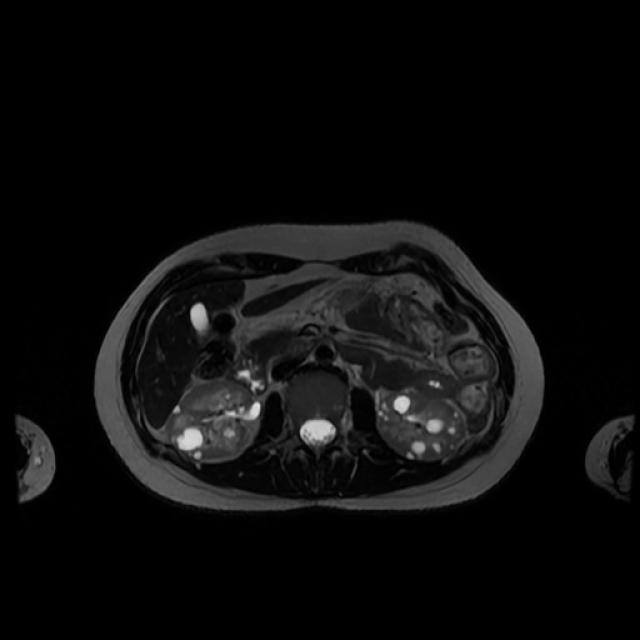sag: (163, 379, 262, 463)
sol: (374, 386, 468, 462)
